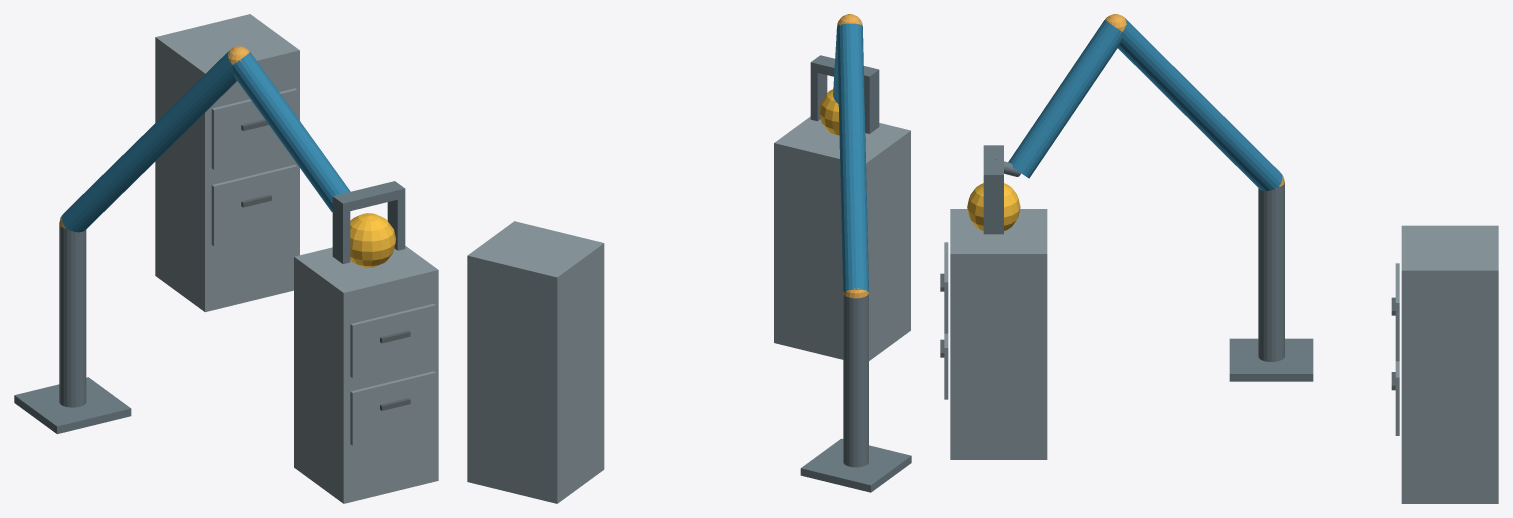
The picture shows the model from 3 angles, left to right: view 1: azimuth 30°, elevation 25°; view 2: azimuth 150°, elevation 25°; view 3: azimuth 270°, elevation 25°; orthographic projection. The views are drawn at different scales.
Visible parts, largest first — view 1: cabinet_1 body, cabinet_2 body, moving link 1, cabinet_2 drawer front, fixed post, moving link 2, cabinet_1 drawer front, cabinet_1 drawer front.001, cabinet_2 drawer front.001, pedestal, ball ball_1, gripper bridge (+2 smaller); view 2: cabinet_2 body, cabinet_1 body, moving link 1, fixed post, pedestal, gripper finger -1, gripper finger 1, ball ball_1, gripper bridge; view 3: cabinet_2 body, cabinet_1 body, moving link 1, moving link 2, fixed post, pedestal, ball ball_1, gripper finger 1, gripper bridge.
Boxes of the visible parts, box(x1,y1,x2,y2) form: cabinet_1 body: box(294, 246, 438, 503); cabinet_2 body: box(155, 14, 299, 312); moving link 1: box(61, 50, 236, 232); cabinet_2 drawer front: box(211, 165, 297, 245); fixed post: box(59, 225, 86, 407); moving link 2: box(232, 52, 350, 211); cabinet_1 drawer front: box(350, 371, 435, 445); cabinet_1 drawer front.001: box(350, 303, 435, 378); cabinet_2 drawer front.001: box(211, 88, 297, 169); pedestal: box(14, 377, 131, 434); ball ball_1: box(350, 213, 395, 267); gripper bridge: box(332, 181, 405, 212); cabinet_2 body: box(467, 221, 604, 503); cabinet_1 body: box(774, 116, 910, 360); moving link 1: box(837, 23, 868, 292); fixed post: box(843, 293, 868, 467); pedestal: box(800, 438, 911, 492); gripper finger -1: box(864, 79, 879, 133); gripper finger 1: box(810, 71, 827, 121); ball ball_1: box(819, 89, 839, 136); gripper bridge: box(810, 55, 879, 85); cabinet_2 body: box(1401, 225, 1498, 503); cabinet_1 body: box(950, 209, 1047, 459); moving link 1: box(1118, 18, 1282, 191); moving link 2: box(1008, 20, 1122, 178); fixed post: box(1258, 183, 1284, 361); pedestal: box(1229, 338, 1313, 381); ball ball_1: box(967, 183, 1020, 231); gripper finger 1: box(983, 184, 1003, 234); gripper bridge: box(983, 145, 1003, 184).
Size of the model in its own units: 1.12 by 1.29 by 1.67.
